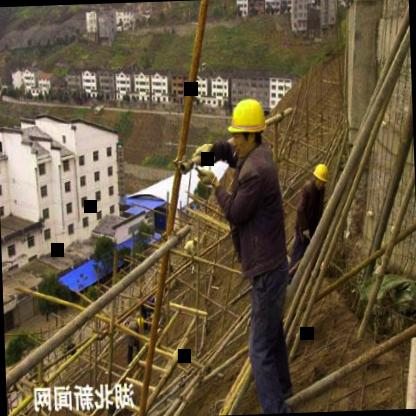helmet: (224, 93, 272, 162), (309, 159, 330, 194)
